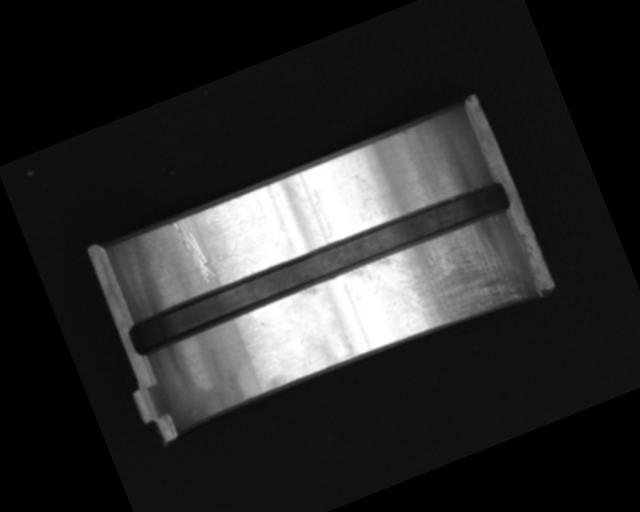gap: (124, 177, 514, 361)
nick: (169, 213, 218, 288)
scratch: (375, 213, 530, 346)
